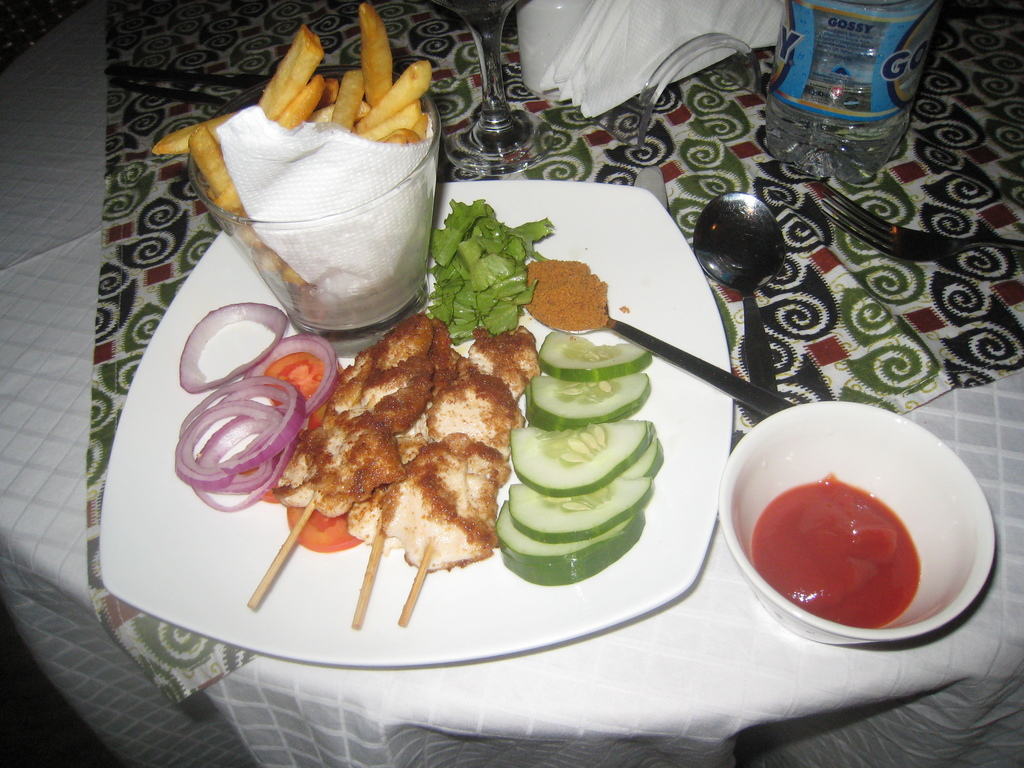French fries: (147, 0, 439, 295)
